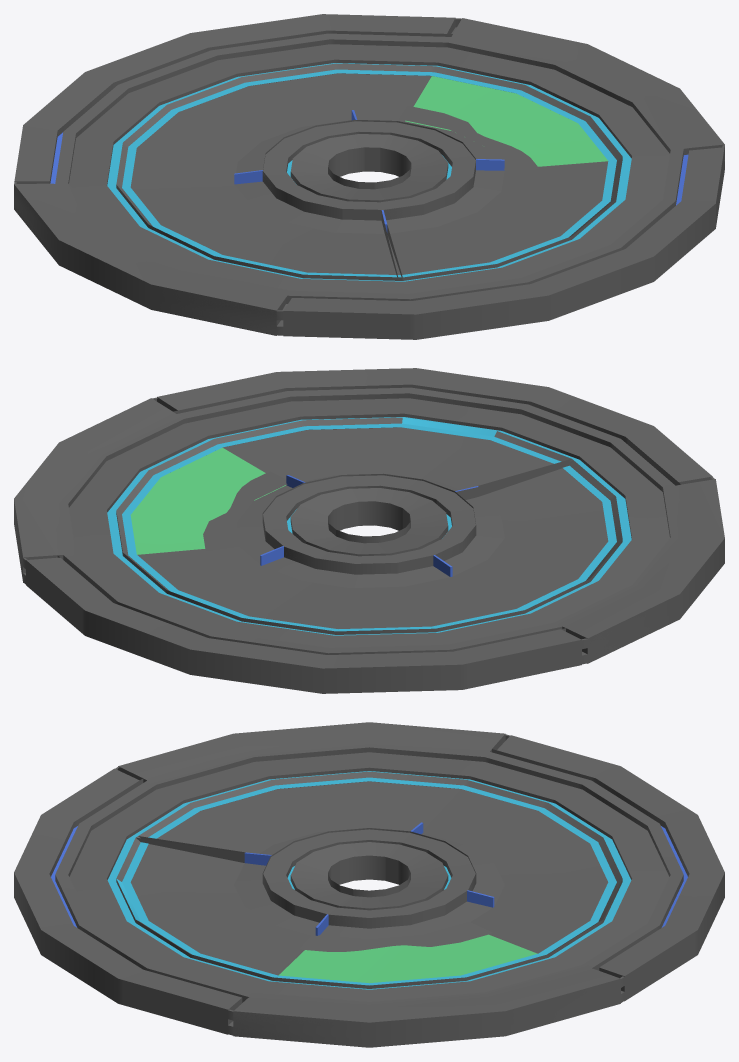
The model's file is Disco20k.fbx.
The picture shows the model from 3 angles, top to bottom: view 1: azimuth 30°, elevation 25°; view 2: azimuth 150°, elevation 25°; view 3: azimuth 270°, elevation 25°; orthographic projection.
Parts seen in each view (by area): view 1: Disco_20k; view 2: Disco_20k; view 3: Disco_20k.
Boxes of the visible parts, <box> form: Disco_20k: <box>14,14,724,339</box>; Disco_20k: <box>14,368,724,693</box>; Disco_20k: <box>14,722,724,1047</box>.
Bounding box in the file's own units: 48.27 × 1.88 × 48.27.
